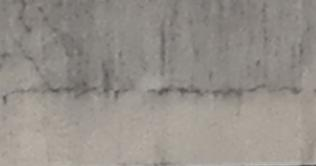fissura: (0, 0, 306, 105)
